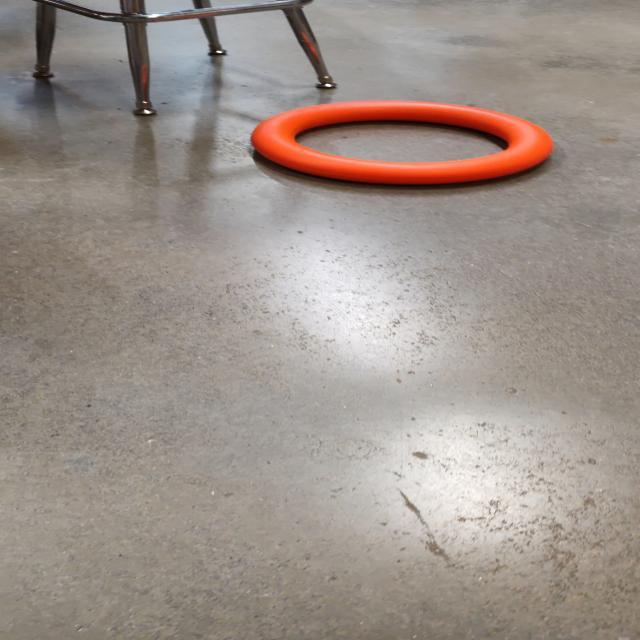note: (251, 100, 555, 186)
